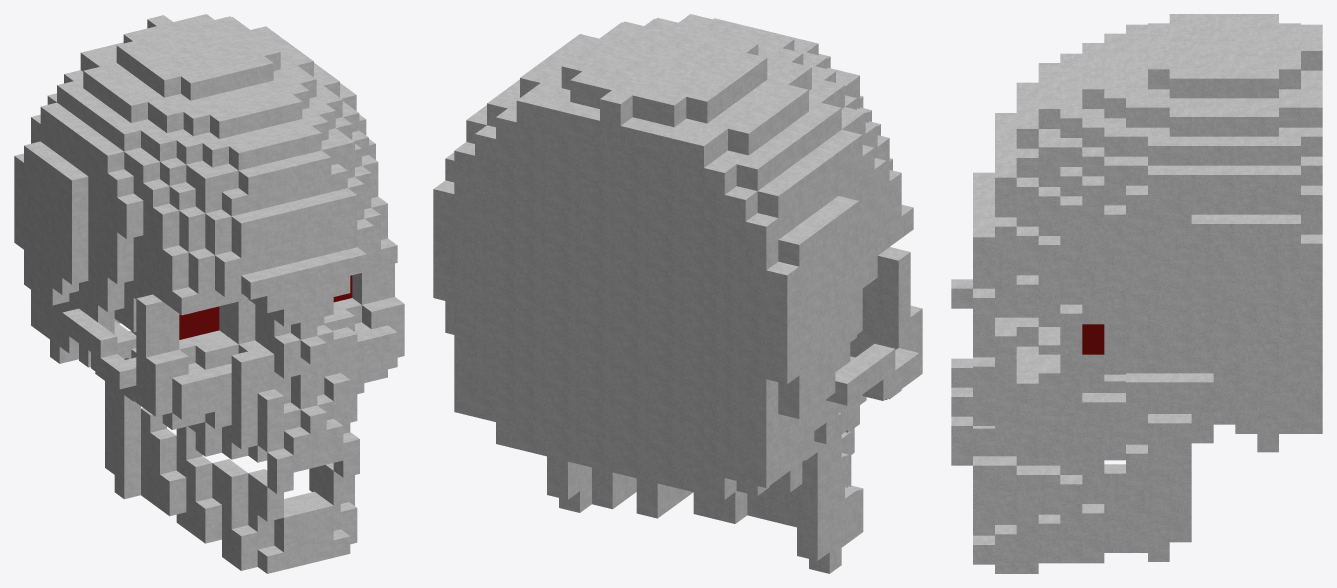
The model's file is 82skull.glb.
3 views of the same model, side by side, from view 1: azimuth 30°, elevation 25°; view 2: azimuth 150°, elevation 25°; view 3: azimuth 270°, elevation 25° (orthographic). The views are drawn at different scales.
Parts seen in each view (by area): view 1: skull; view 2: skull; view 3: skull.
Part boxes in pixels (left/top/right/bottom): skull: left=14, top=14, right=404, bottom=573; skull: left=433, top=14, right=922, bottom=573; skull: left=951, top=14, right=1322, bottom=573.
Bounding box in the file's own units: 68 × 100 × 68.
Materials: 3 (2 with a texture image).
